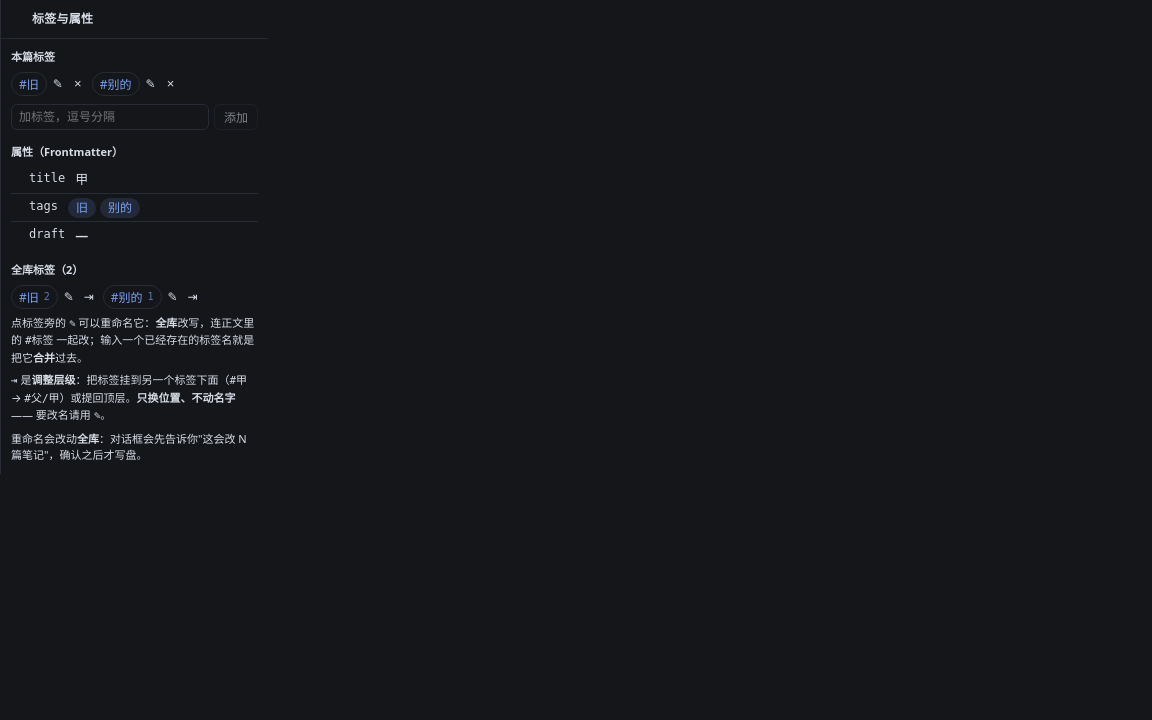
Test case: 入口与键盘 › 面板上每个标签都有「重命名 / 合并」入口，点开是对话框而不是直接改写
This screenshot has width=1152, height=720.
expect the button "#旧" is shown: met, box top-left (11, 72), bottom-right (47, 96)
Click the 1st button "✎": {"x": 58, "y": 84} top-left (49, 74), bottom-right (67, 92)
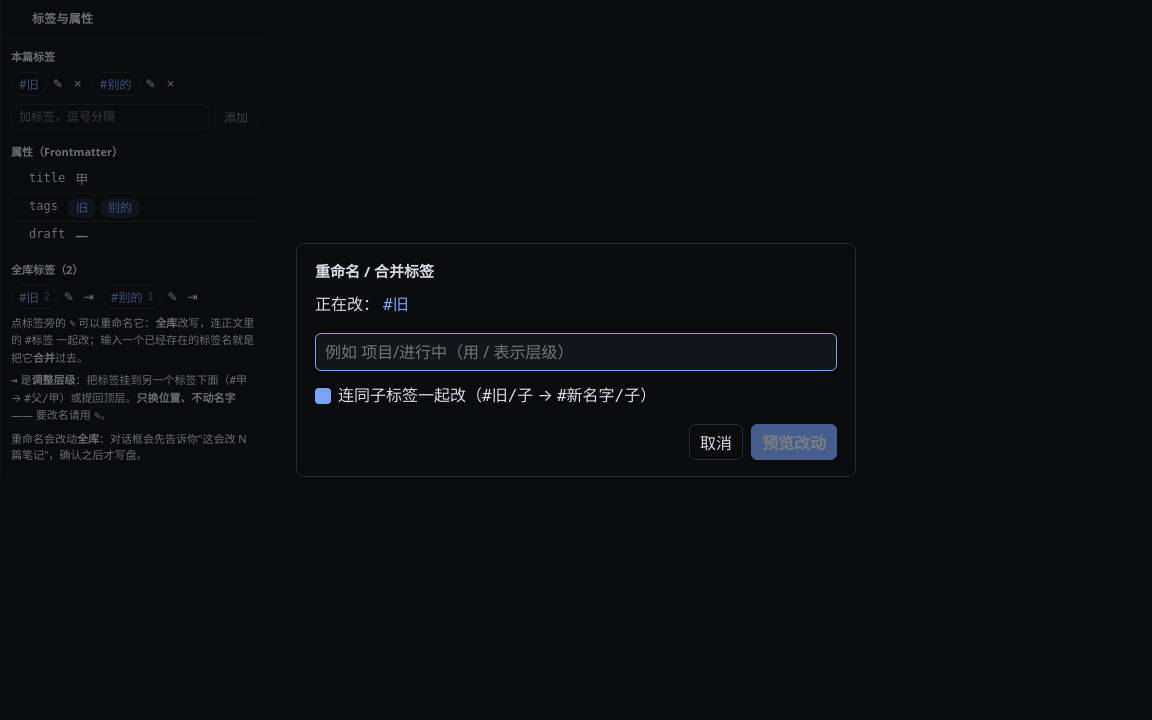
expect the element showing "重命名 / 合并标签 正在改：#旧 连同子标签一起改（#旧/子 → #新名字/子） 取消 预览改动" is shown: met
